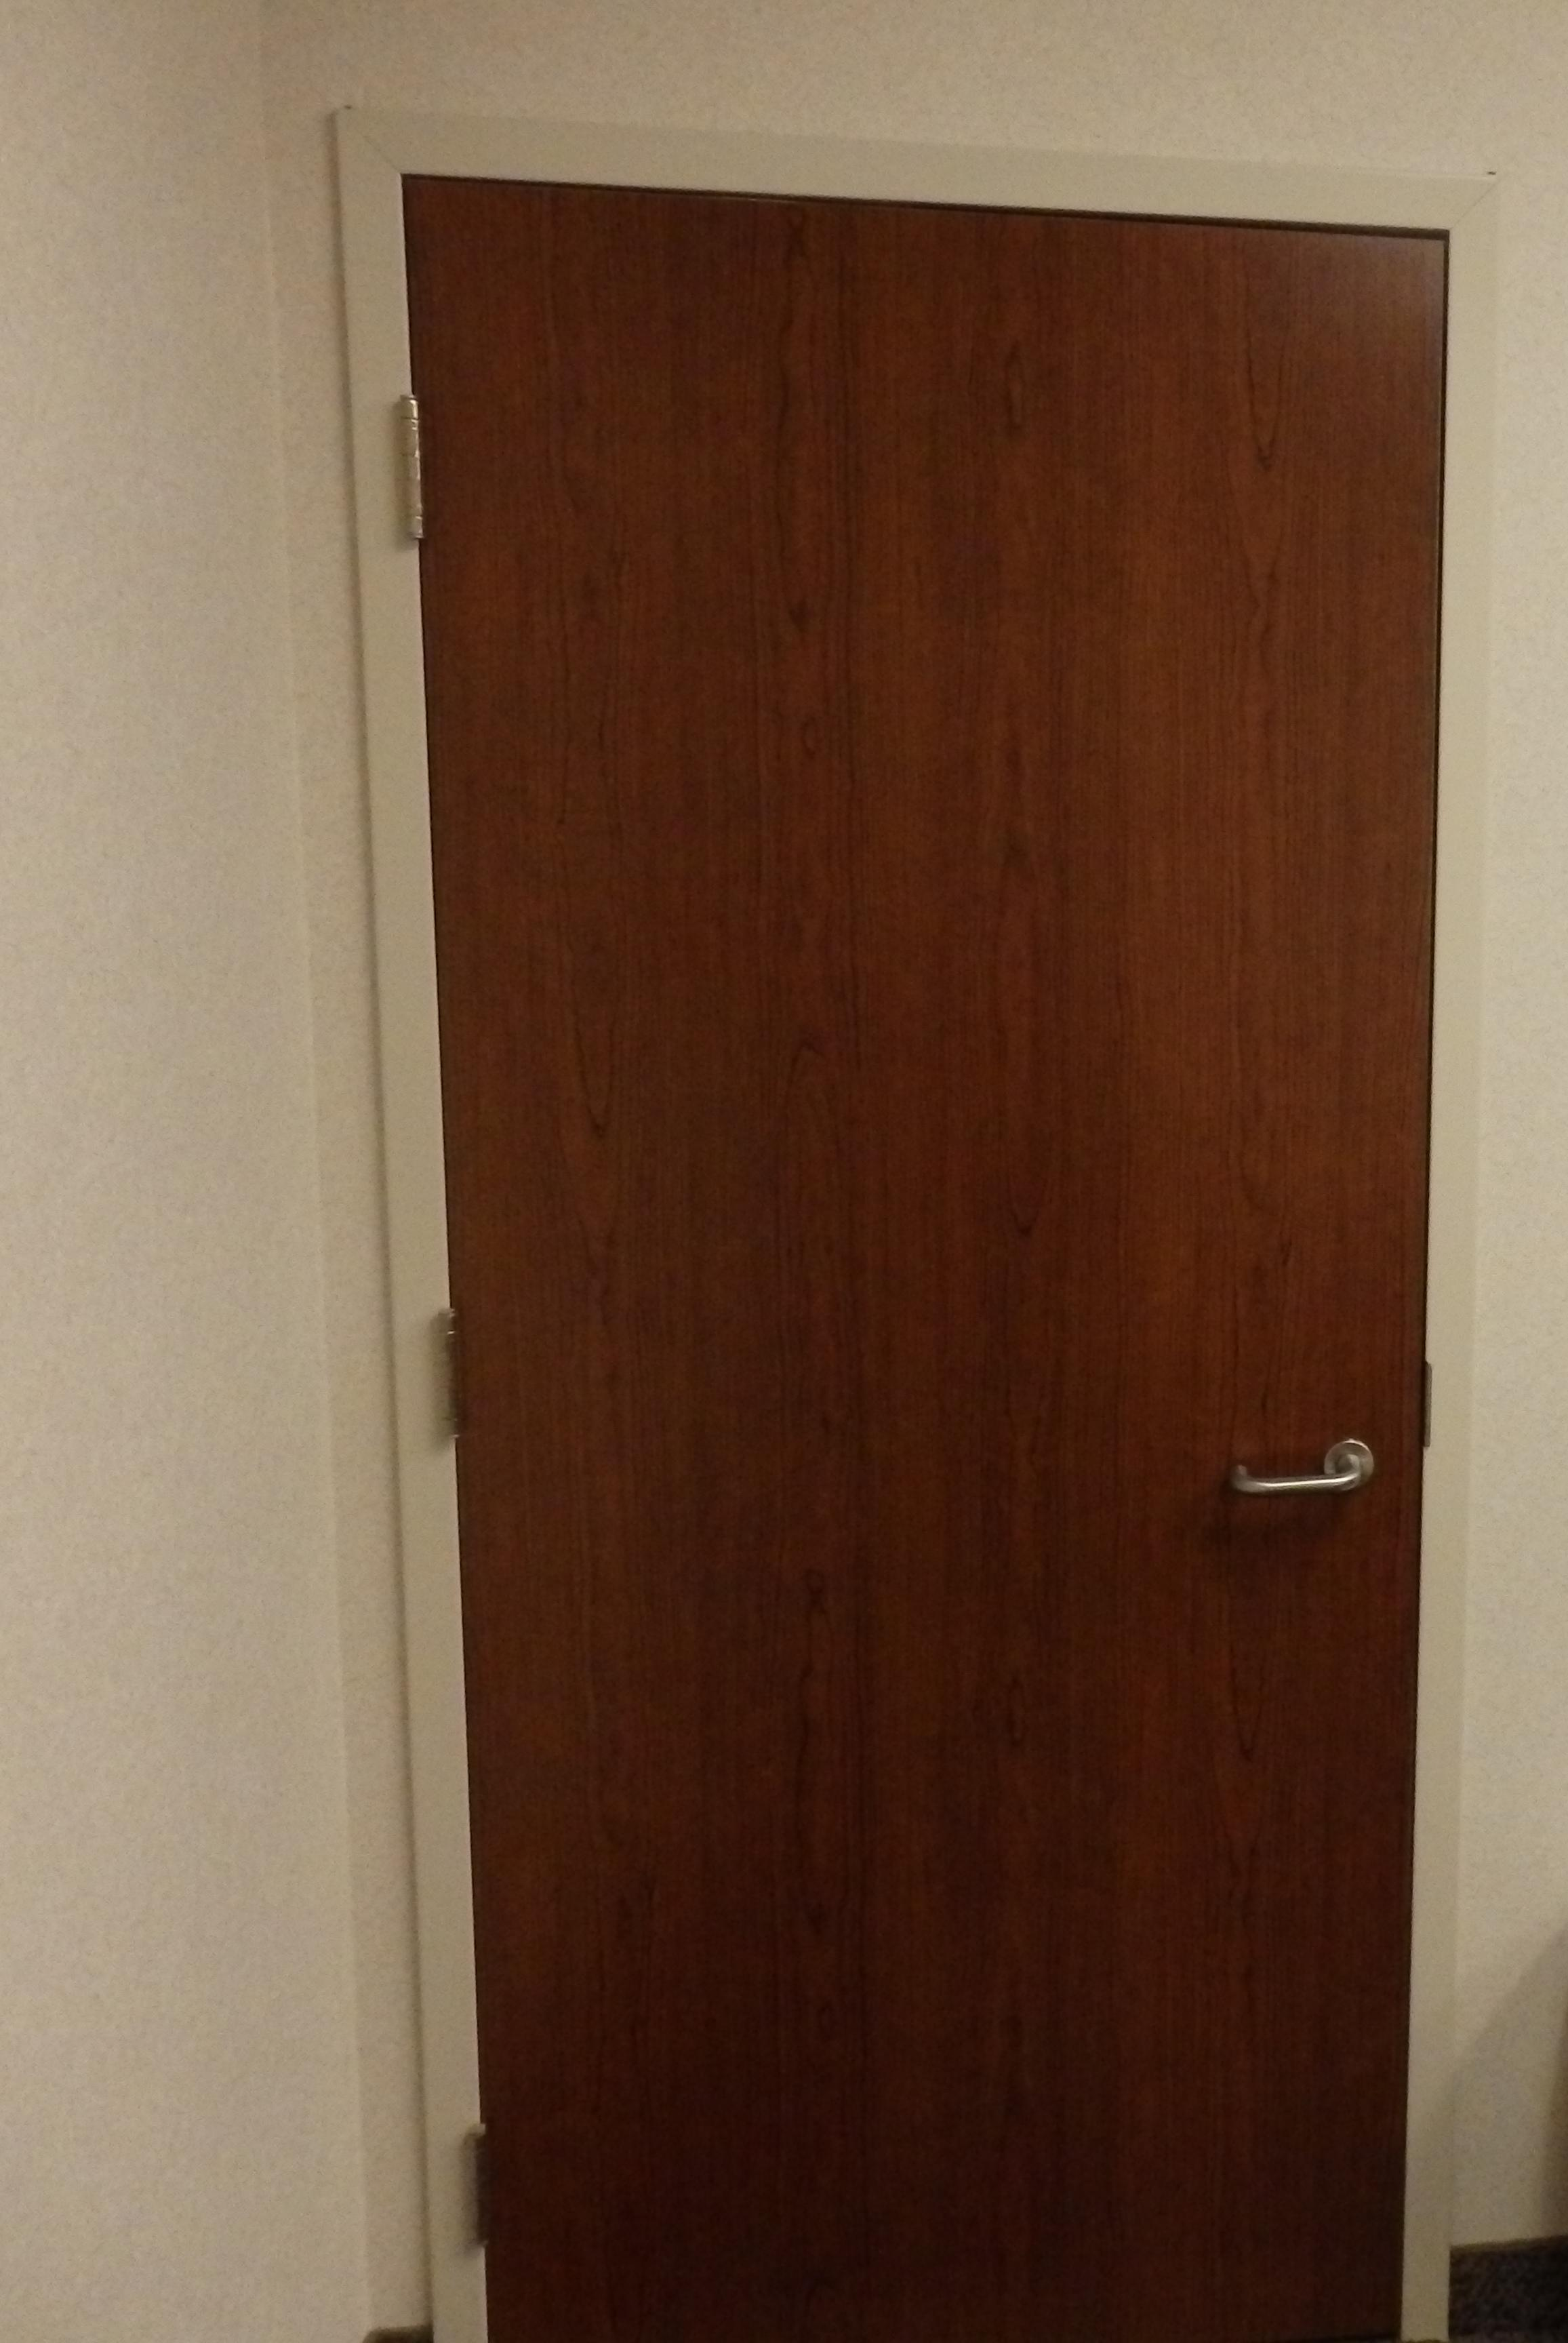handle: (1223, 1396, 1370, 1542)
